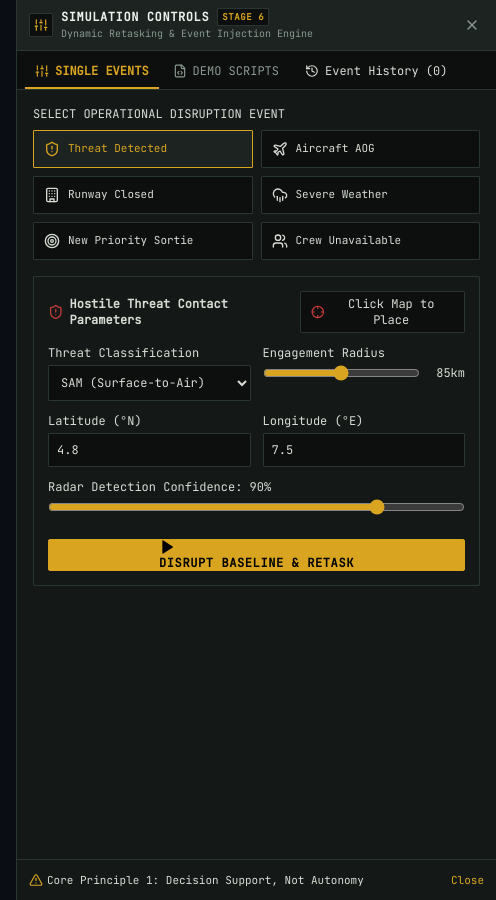
it: ScenarioControlPanel (Stage 6: Event Injection & Demo Replay) › displays chronological event history in Event History tab
What coordinates should you click on to do the following:
click the button "Event History (0)"
I would click on:
 (376, 72)
Its box is [293,55,459,89].
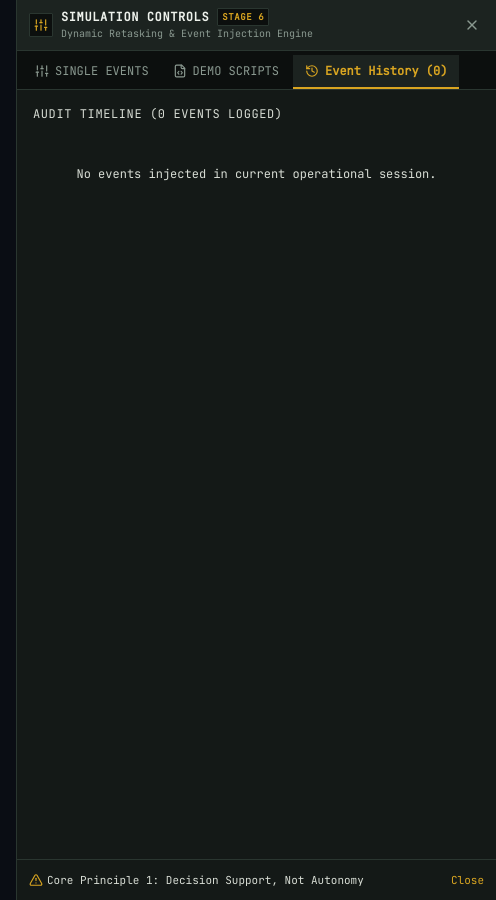
Result: the text "Audit Timeline (0 Events Logged)" is shown at [33,106,283,122]
